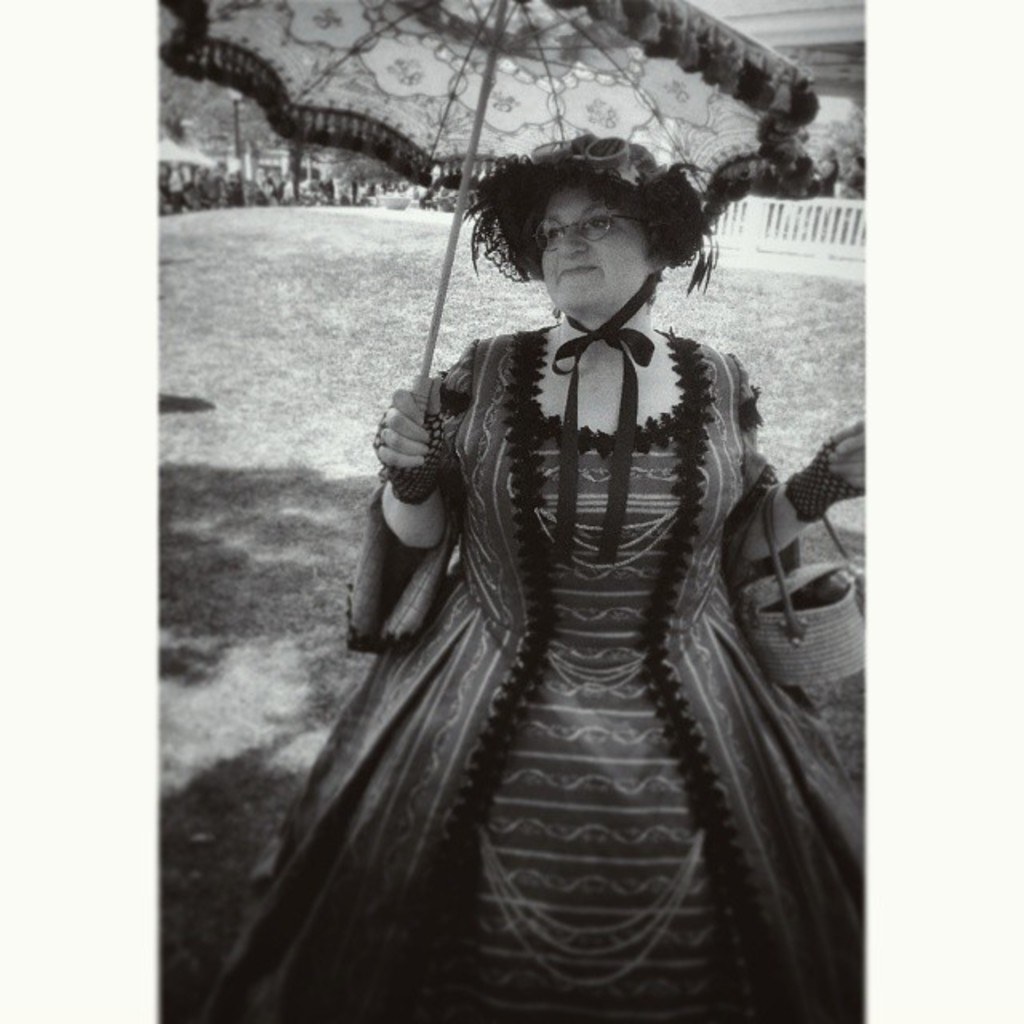Umbrella: (161, 5, 824, 289)
